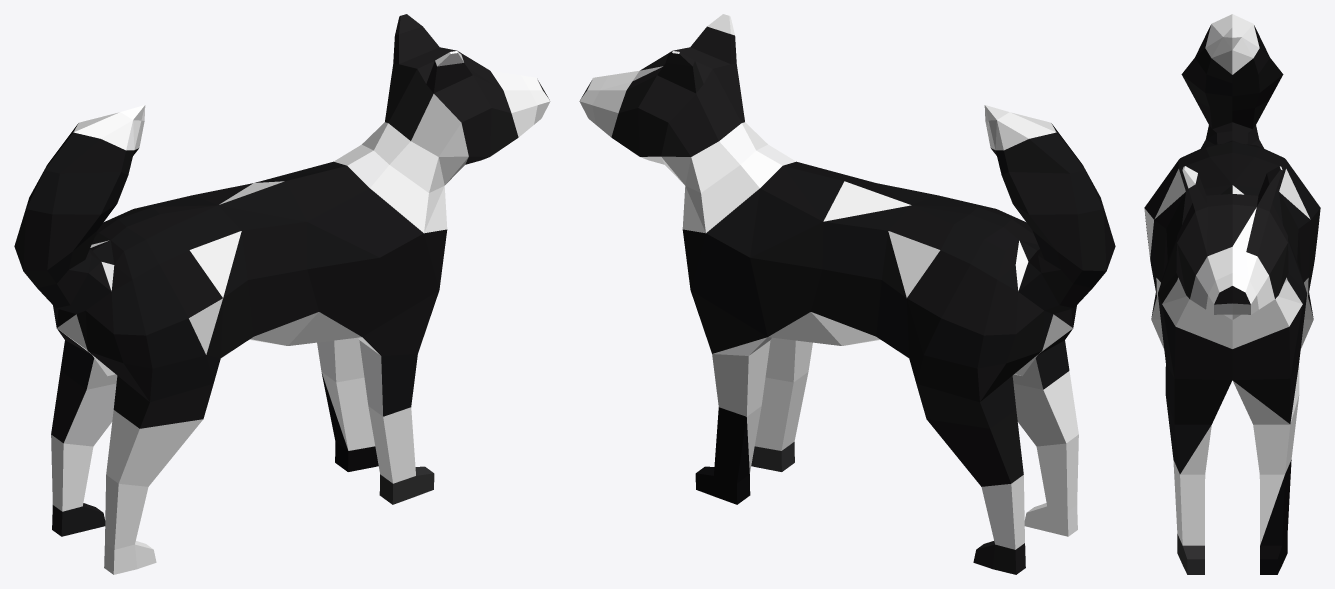
Rendered from SM_Dog.glb.
The picture shows the model from 3 angles, left to right: view 1: azimuth 30°, elevation 25°; view 2: azimuth 150°, elevation 25°; view 3: azimuth 270°, elevation 25°; orthographic projection. The views are drawn at different scales.
Parts seen in each view (by area): view 1: SM_Dog; view 2: SM_Dog; view 3: SM_Dog.
Part boxes in pixels (<box>): SM_Dog: <box>14,14,550,574</box>; SM_Dog: <box>579,14,1115,574</box>; SM_Dog: <box>1144,14,1320,574</box>.
Size of the model in its own units: 1.58 by 1.27 by 0.4871.
Materials: 1 (1 with a texture image).
